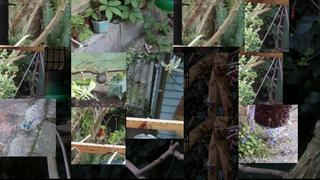blue tit: (21, 119, 36, 138)
robin: (94, 127, 106, 145)
sparrow: (93, 73, 106, 85)
